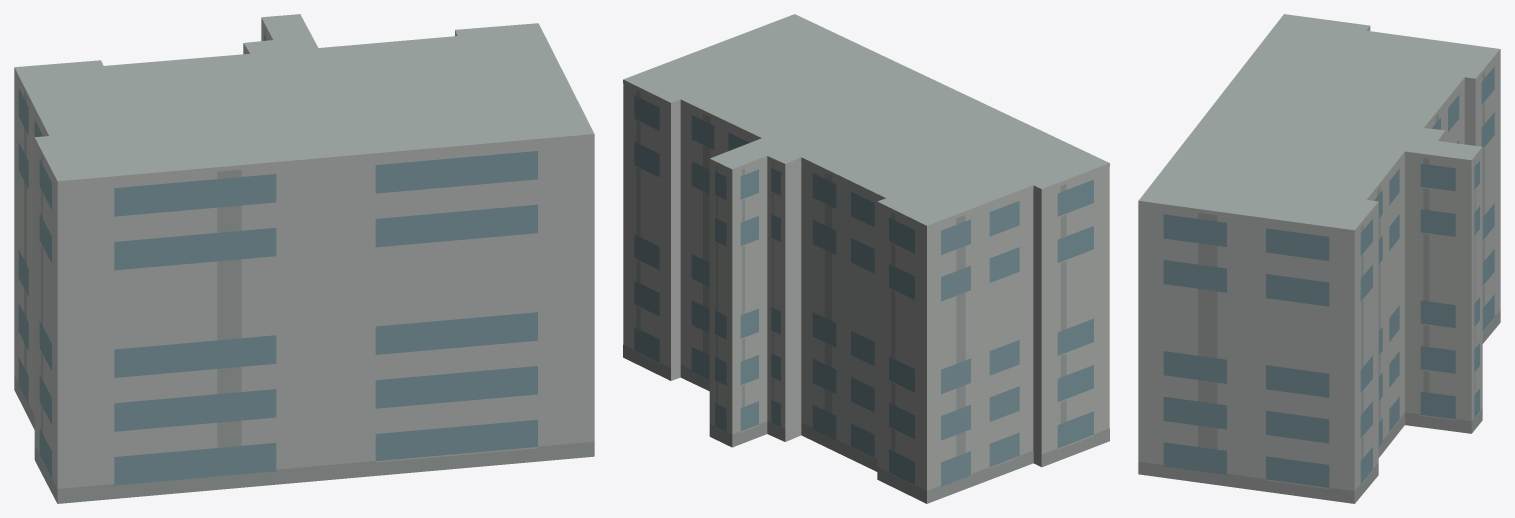
The model's file is survey-upis-32839102.glb.
3 views of the same model, side by side, from view 1: azimuth 30°, elevation 25°; view 2: azimuth 150°, elevation 25°; view 3: azimuth 270°, elevation 25° (orthographic). The views are drawn at different scales.
Visible parts, largest first — view 1: survey-upis-32839102.tmp; view 2: survey-upis-32839102.tmp; view 3: survey-upis-32839102.tmp.
Part boxes in pixels (<box>): survey-upis-32839102.tmp: <box>14,14,594,503</box>; survey-upis-32839102.tmp: <box>623,14,1109,503</box>; survey-upis-32839102.tmp: <box>1138,14,1500,503</box>.
Bounding box in the file's own units: 29.18 × 17.2 × 20.64.
